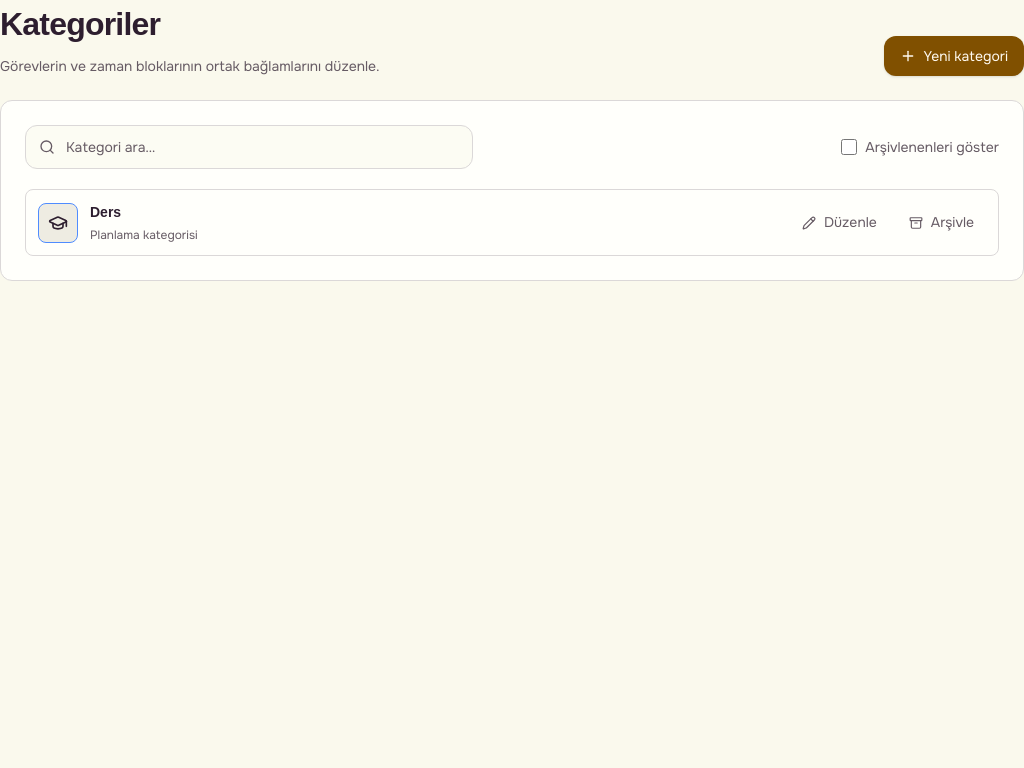
Test: categories page › opens the reusable creation dialog from the page action
The image size is (1024, 768).
Click the button "Yeni kategori".
click(954, 56)  # box [884,36,1023,76]
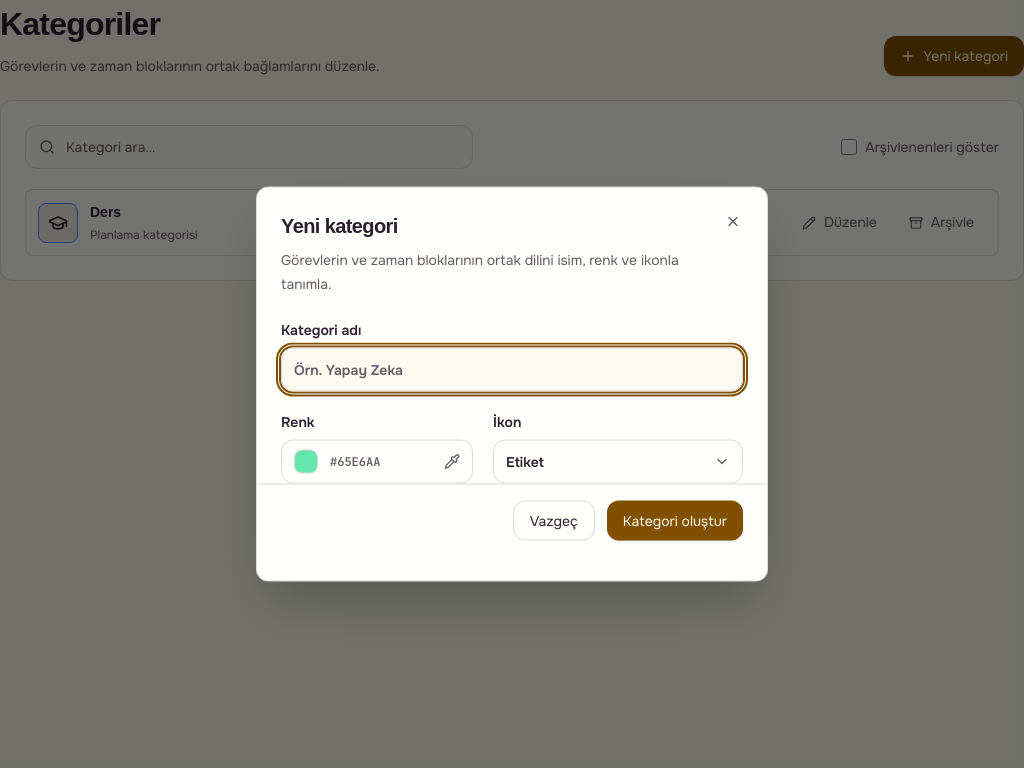
Expected: the dialog is shown, [256,186,768,582]
Expected: the heading "Yeni kategori" is shown, [281,214,398,236]
